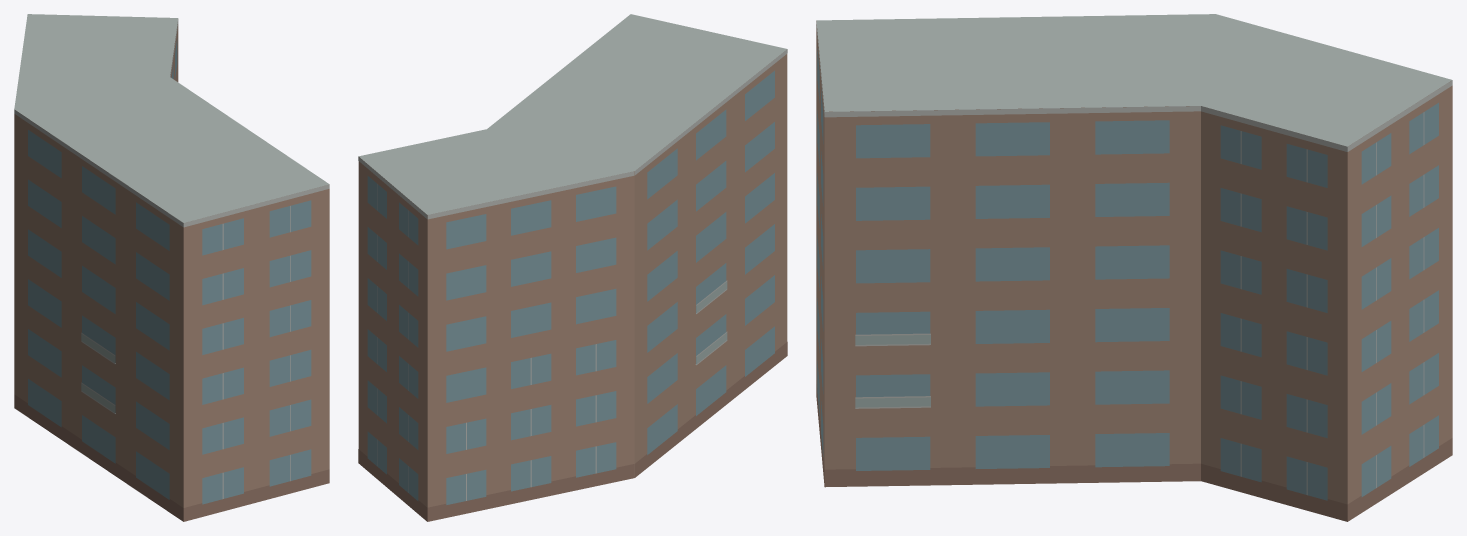
File: survey-upis-32876284.glb
The picture shows the model from 3 angles, left to right: view 1: azimuth 30°, elevation 25°; view 2: azimuth 150°, elevation 25°; view 3: azimuth 270°, elevation 25°; orthographic projection. The views are drawn at different scales.
Parts seen in each view (by area): view 1: survey-upis-32876284.tmp; view 2: survey-upis-32876284.tmp; view 3: survey-upis-32876284.tmp.
Part boxes in pixels (x1,y1,x2,y2): survey-upis-32876284.tmp: (14,14,329,521); survey-upis-32876284.tmp: (358,14,787,521); survey-upis-32876284.tmp: (816,14,1452,521).
Bounding box in the file's own units: 12.67 × 16.7 × 25.67.
